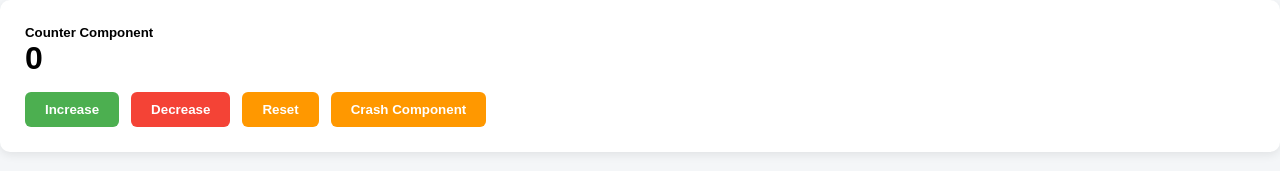
Test case: Counter App › decrease when count > 0
Click the button "Increase" at (72, 110), box [25,92,119,127]
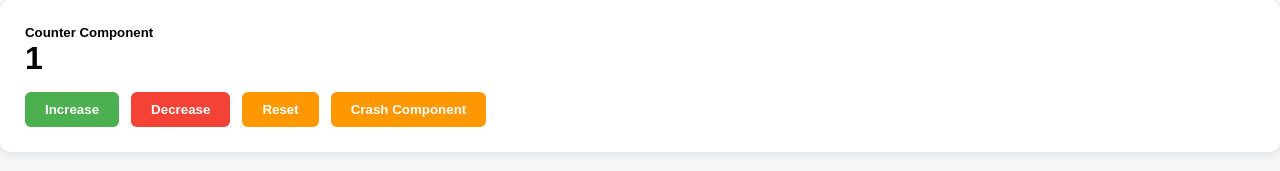
Click the button "Decrease" at (181, 110), box [131,92,230,127]
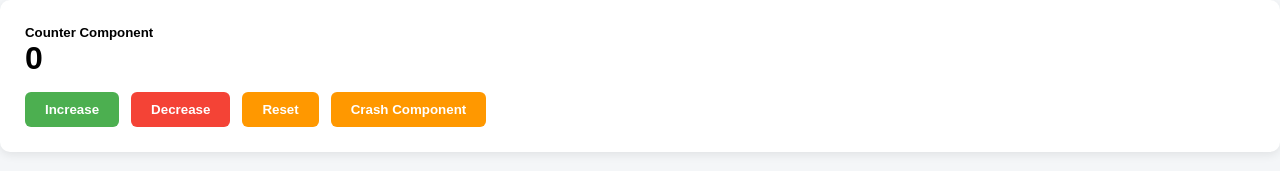
Now the heading "0" is shown, box [25,40,43,76]
